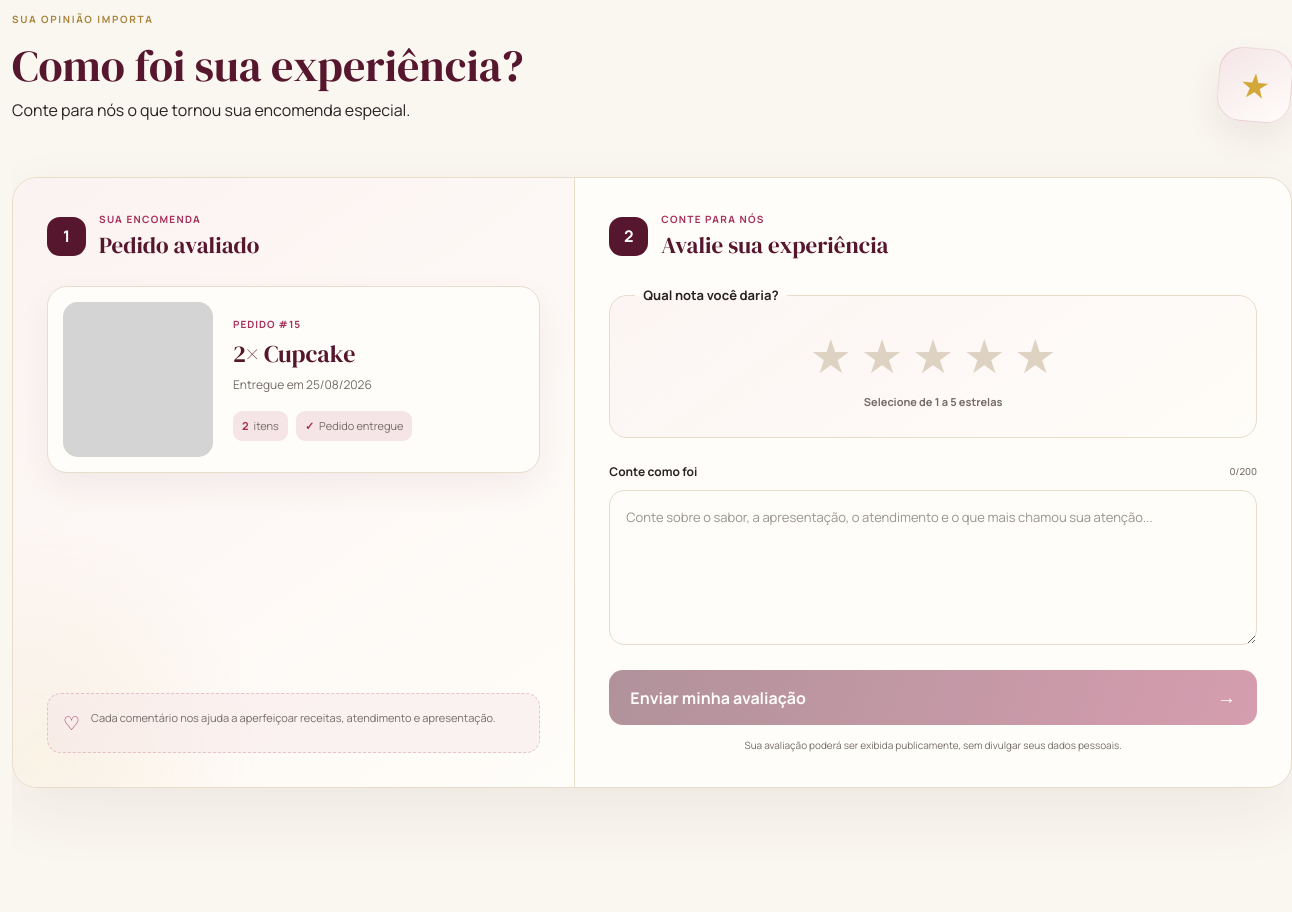
Review › permite selecionar uma avaliação
What coordinates should you click on to do the following:
click the button named "4 estrelas"
I would click on:
 (984, 356)
Its box is [961,330,1007,381].
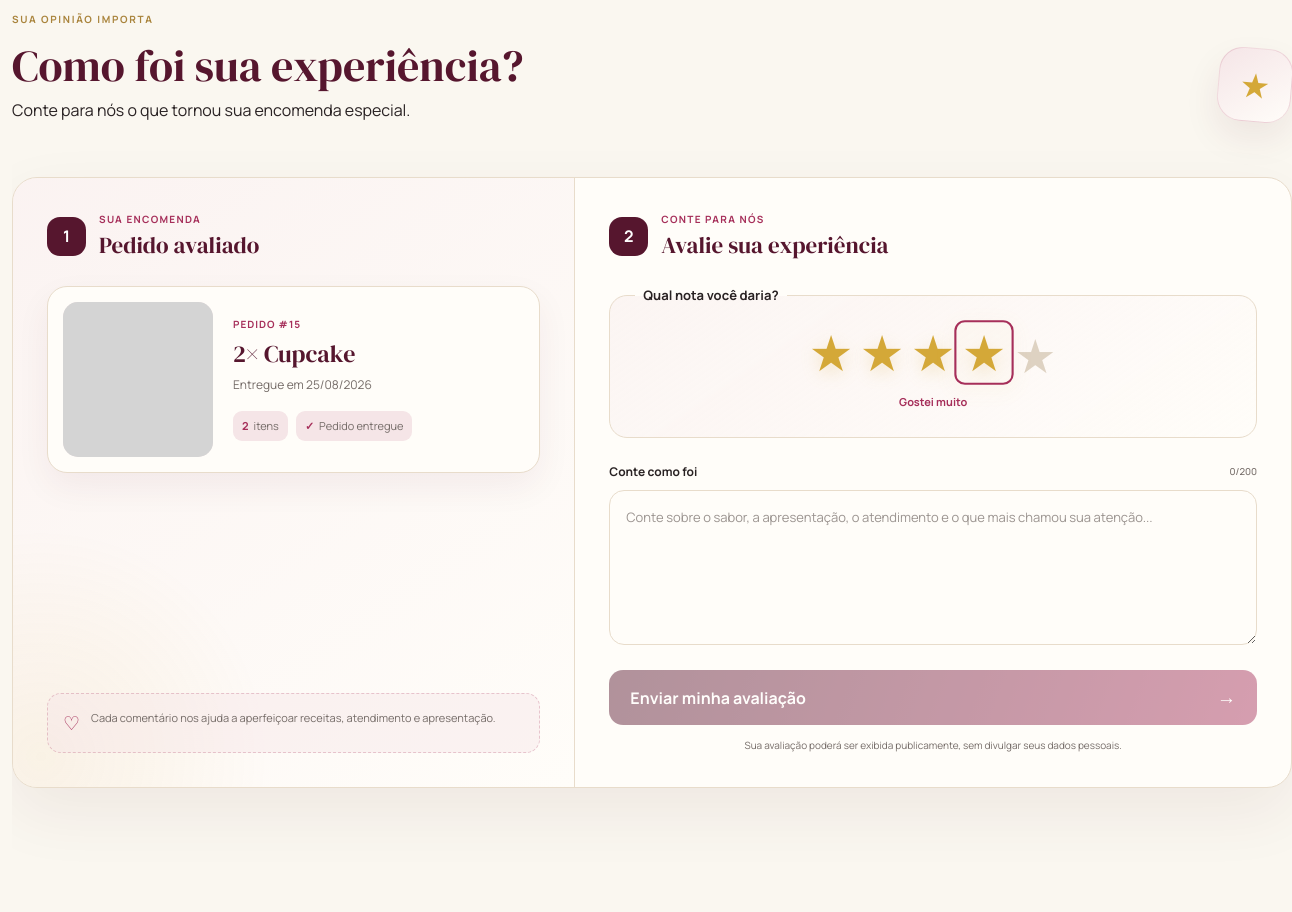
Now the text "Gostei muito" is shown, box [899,394,967,412]
